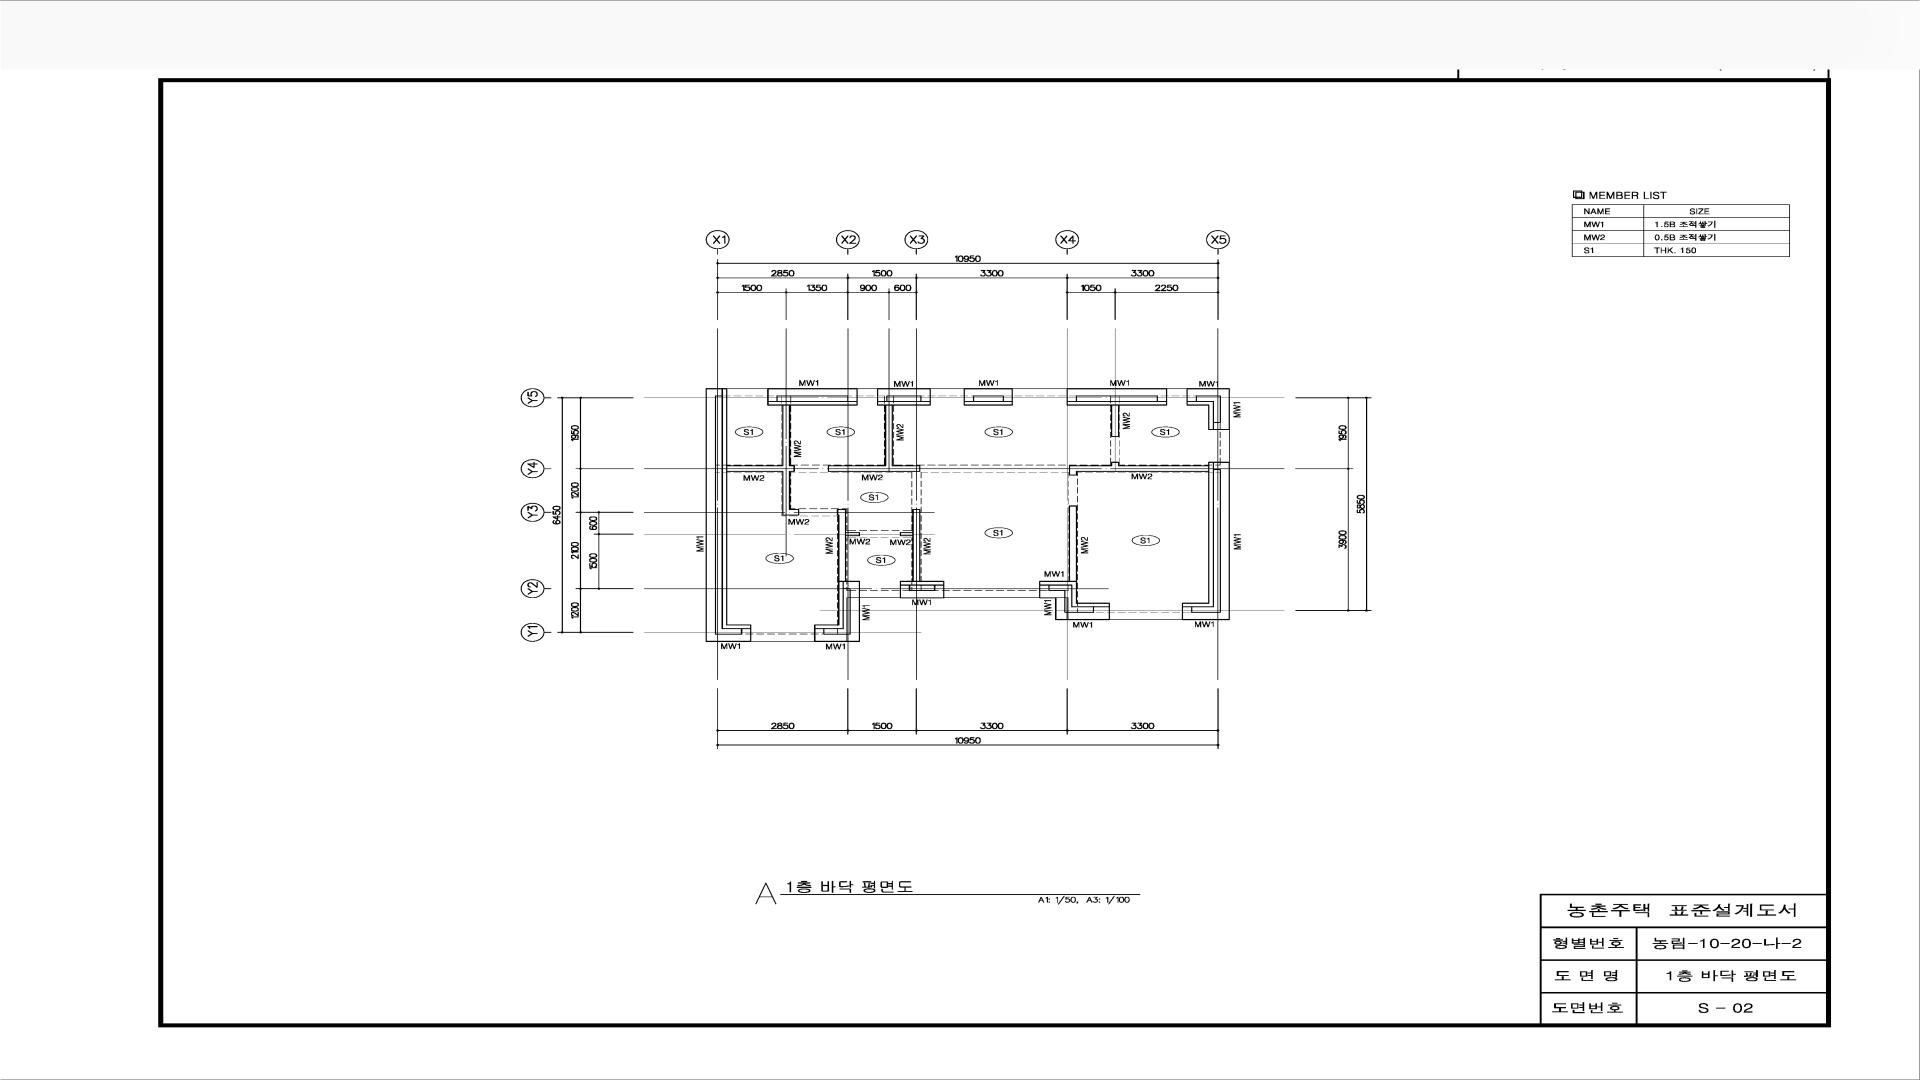background: (0, 0, 1920, 1080)
wall: (706, 388, 751, 642), (727, 406, 799, 515), (1182, 462, 1230, 620), (722, 388, 751, 629), (715, 395, 742, 635), (828, 406, 920, 472), (1182, 462, 1214, 607), (1191, 469, 1221, 613), (814, 581, 860, 642), (1039, 586, 1110, 620), (1039, 581, 1110, 607), (1069, 462, 1208, 475), (1187, 388, 1230, 430), (837, 509, 860, 581), (900, 509, 920, 581), (814, 581, 844, 629), (823, 588, 851, 635), (1067, 388, 1167, 401), (1049, 586, 1094, 613), (767, 388, 858, 401), (1187, 401, 1214, 430), (877, 388, 931, 401), (1196, 396, 1221, 423), (964, 388, 1013, 401), (1069, 505, 1077, 581), (900, 586, 944, 598), (1067, 401, 1167, 406), (767, 401, 858, 406), (1076, 396, 1158, 401), (776, 396, 848, 401), (877, 401, 931, 406), (1111, 406, 1119, 437), (964, 401, 1013, 406), (900, 581, 944, 586), (886, 396, 921, 401), (973, 396, 1004, 401), (909, 586, 935, 591)
